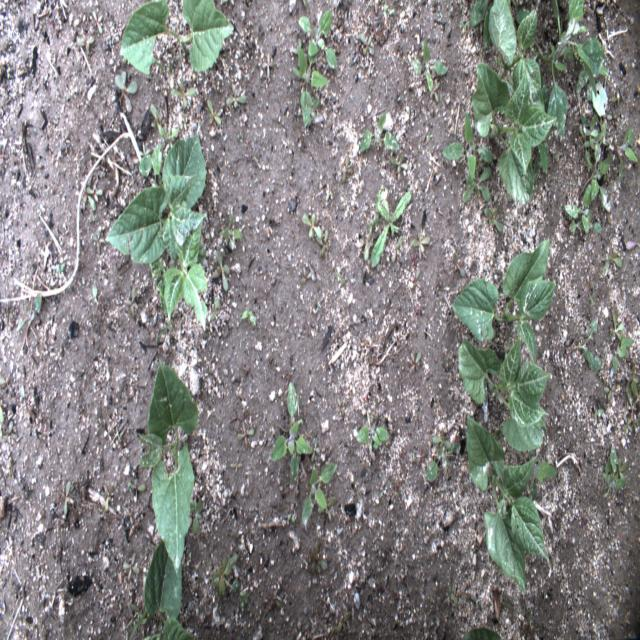crop: (466, 413, 559, 596), (103, 133, 209, 266), (448, 235, 556, 363), (137, 356, 198, 573), (471, 61, 559, 209), (458, 336, 552, 450), (536, 0, 608, 137), (119, 0, 236, 76), (150, 222, 208, 341), (129, 541, 199, 639), (488, 0, 545, 113)
weed: (269, 380, 313, 486), (440, 108, 495, 182), (578, 114, 615, 214), (369, 190, 413, 270), (139, 100, 182, 177), (291, 45, 331, 127), (296, 8, 338, 70), (302, 462, 338, 528), (409, 38, 449, 96), (425, 426, 461, 484), (210, 553, 248, 607), (567, 314, 602, 369), (358, 111, 401, 155), (594, 444, 629, 498), (565, 203, 602, 238), (356, 422, 391, 458), (621, 366, 639, 436), (616, 126, 638, 183), (461, 167, 494, 203), (218, 203, 243, 250), (15, 292, 42, 332), (116, 70, 138, 113), (599, 240, 623, 276), (612, 338, 634, 373), (213, 248, 231, 290), (172, 80, 198, 109), (309, 538, 328, 576), (234, 420, 256, 451), (127, 473, 147, 507), (122, 550, 142, 583), (410, 231, 432, 260), (81, 182, 102, 211), (608, 309, 625, 344), (301, 212, 322, 240), (485, 204, 504, 233), (60, 480, 74, 516), (226, 88, 247, 110), (389, 153, 410, 175), (124, 288, 139, 318), (191, 497, 203, 534), (206, 98, 223, 124), (315, 227, 329, 258), (341, 154, 355, 185), (240, 304, 257, 328), (360, 31, 376, 56), (2, 418, 18, 443), (76, 34, 95, 54), (262, 52, 274, 81), (604, 373, 616, 401), (92, 10, 103, 34)
